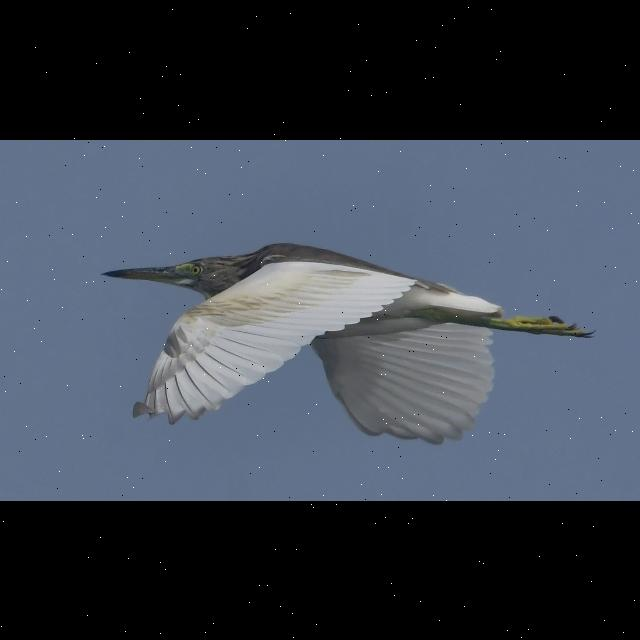heron: (78, 238, 600, 442)
